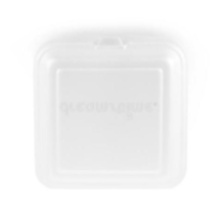foam_box: (24, 28, 193, 197)
